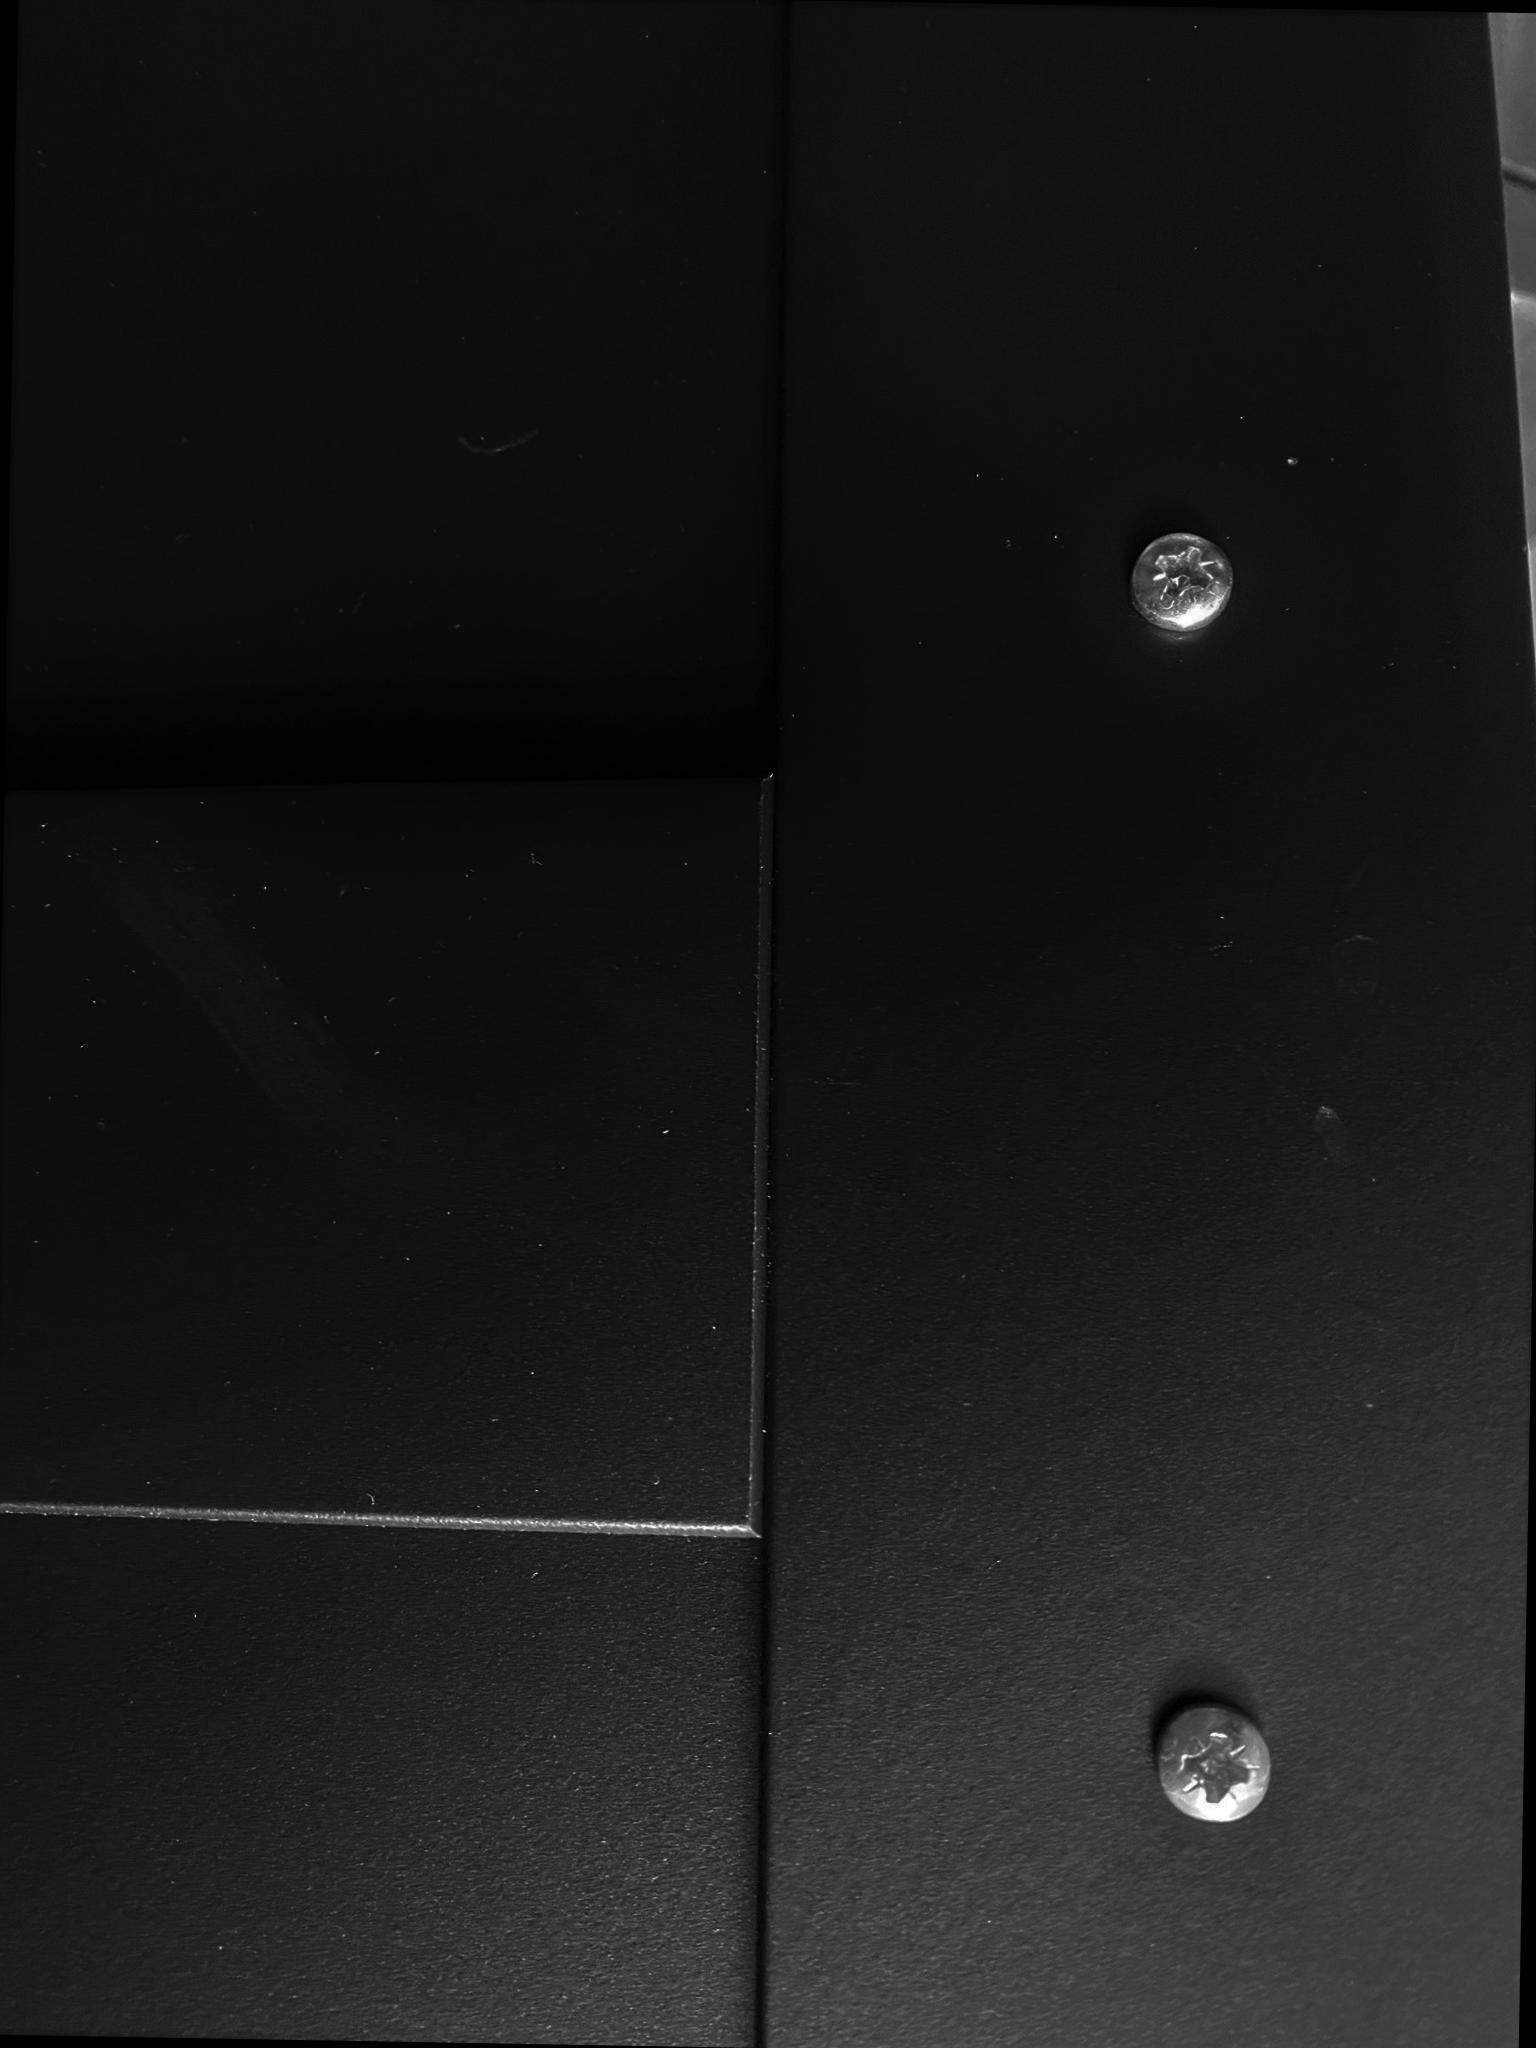PH: (1154, 1701, 1275, 1827), (1128, 531, 1239, 632)
